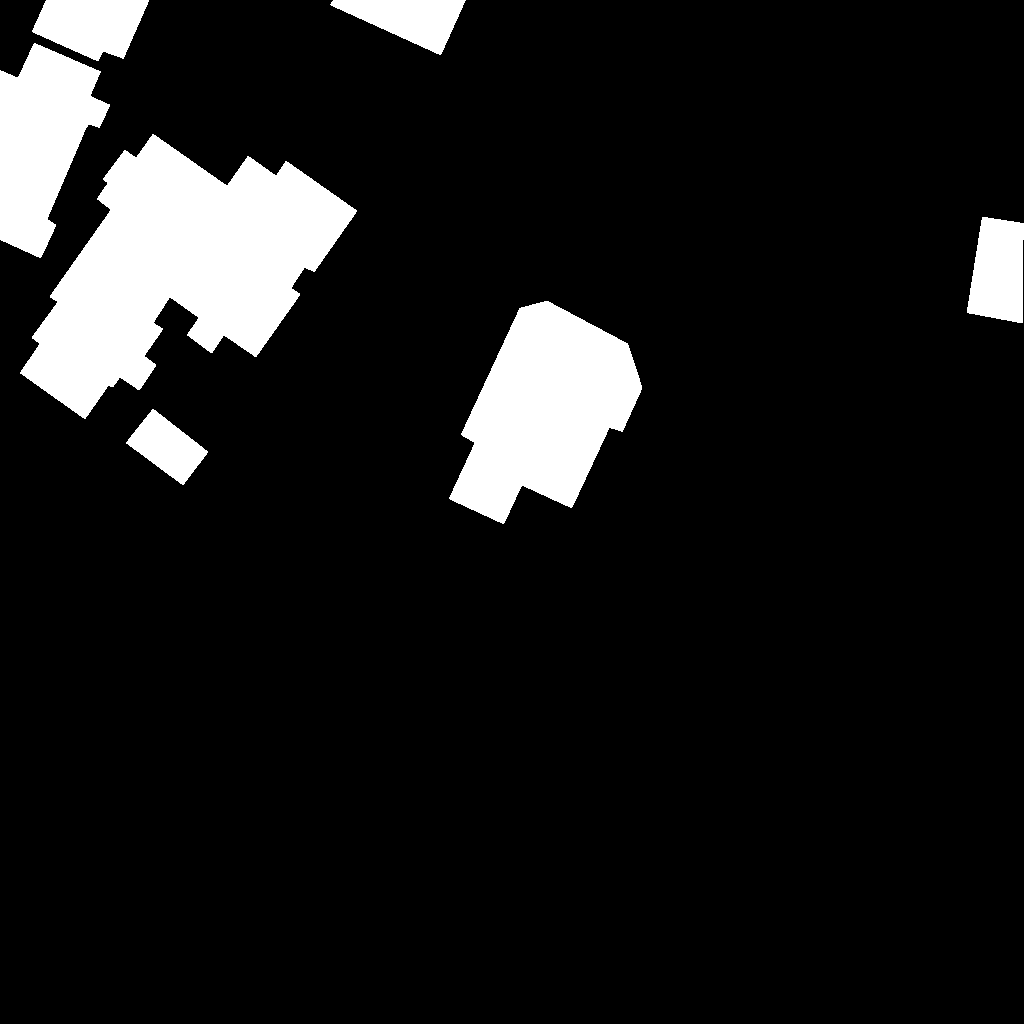building: (20, 134, 358, 420), (449, 301, 643, 525), (0, 43, 111, 259), (330, 0, 467, 56), (32, 0, 150, 62), (126, 409, 209, 486), (967, 217, 1024, 324)
